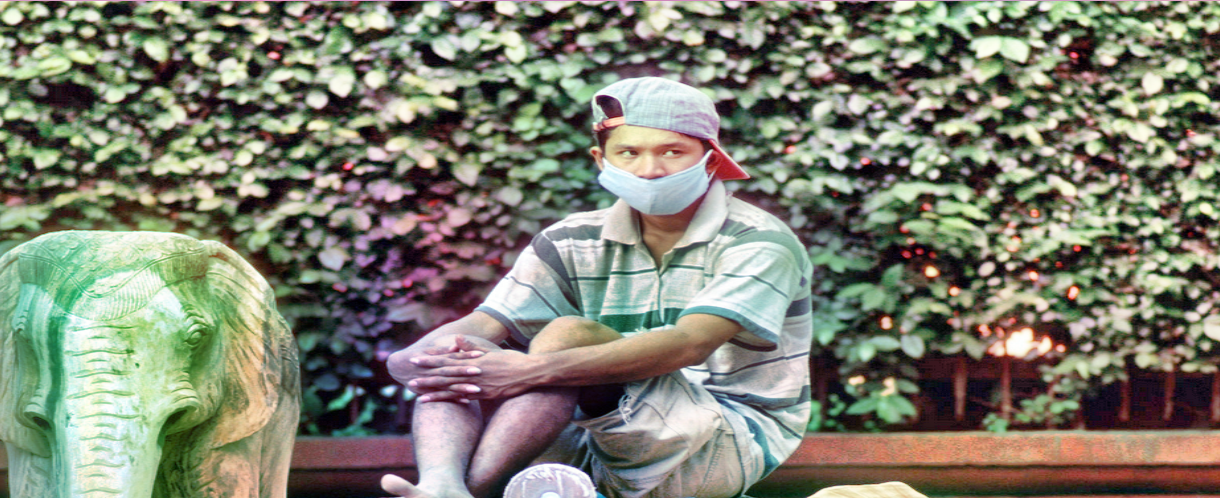mask_weared_incorrect: (583, 75, 740, 227)
